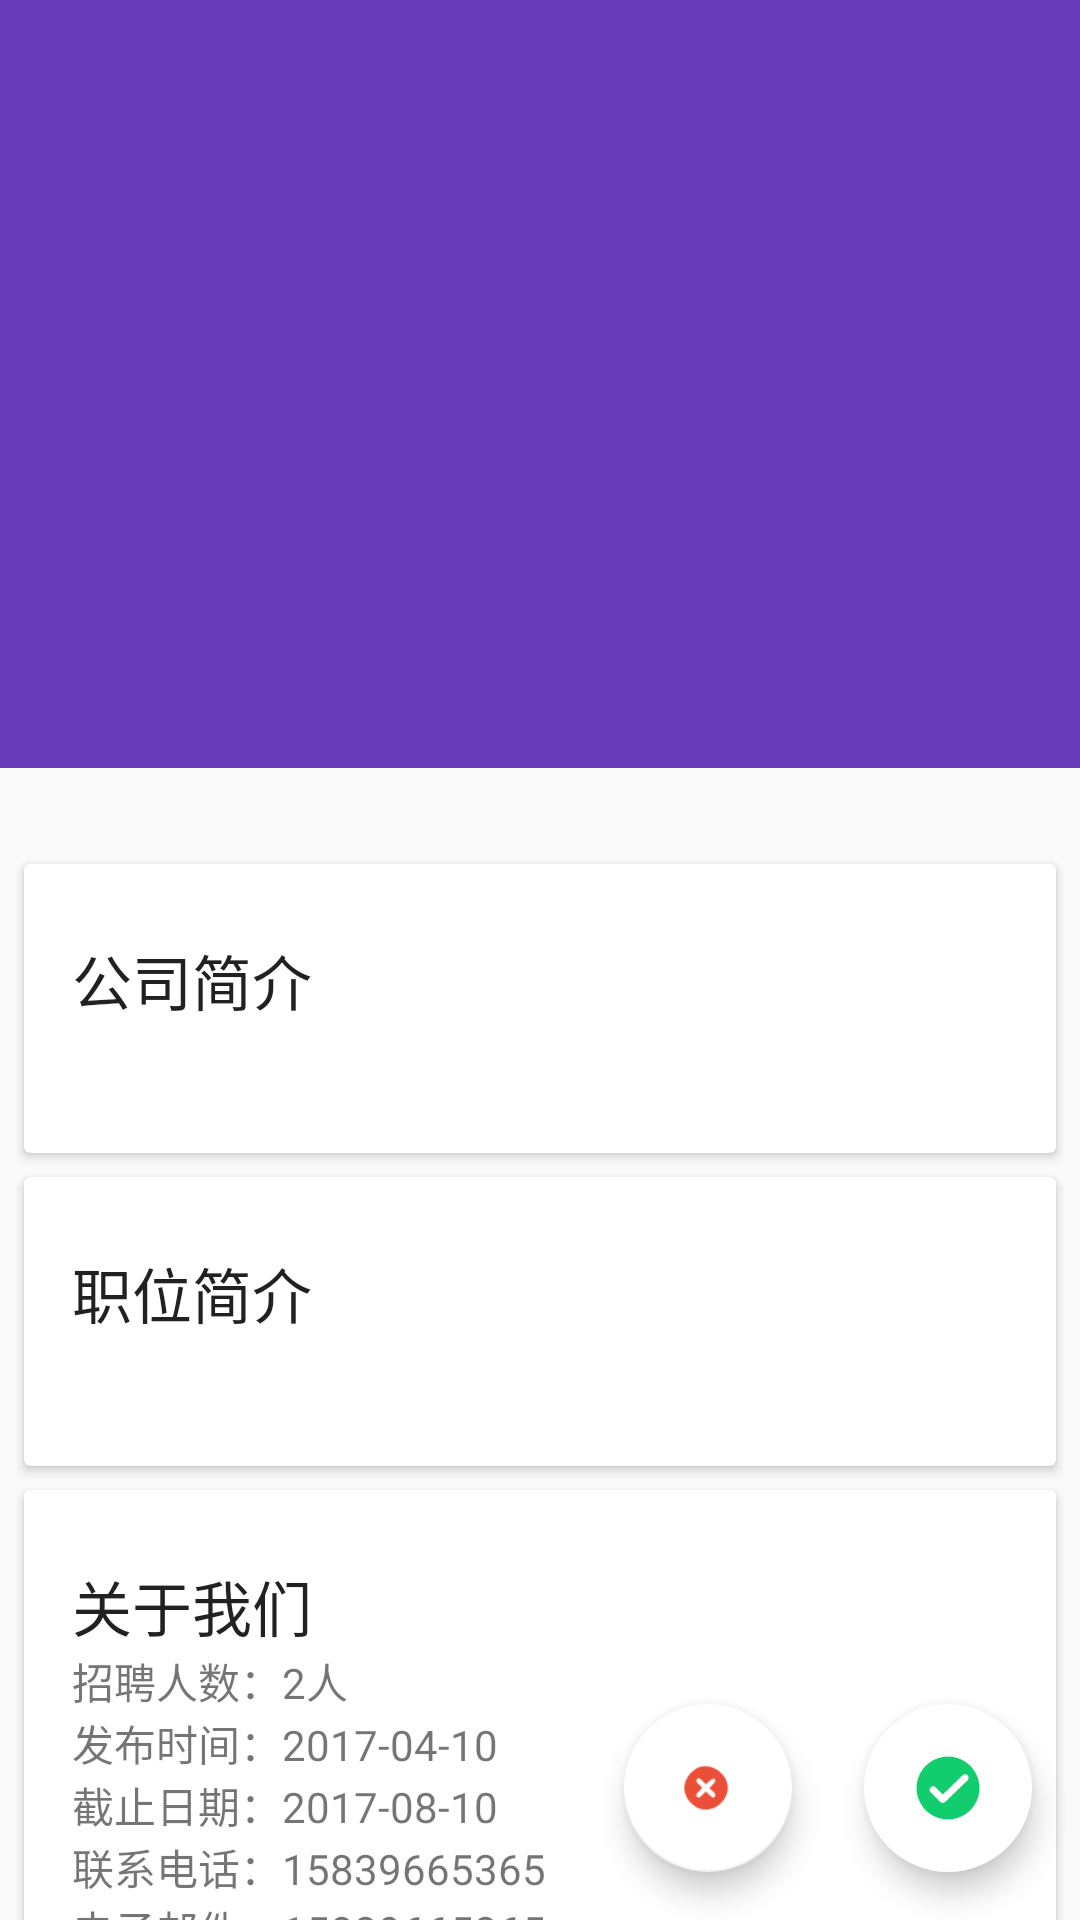

Icon click points for this 1080 x 1920 phone screenshot, format [x,y]:
pass: [924,1788]
